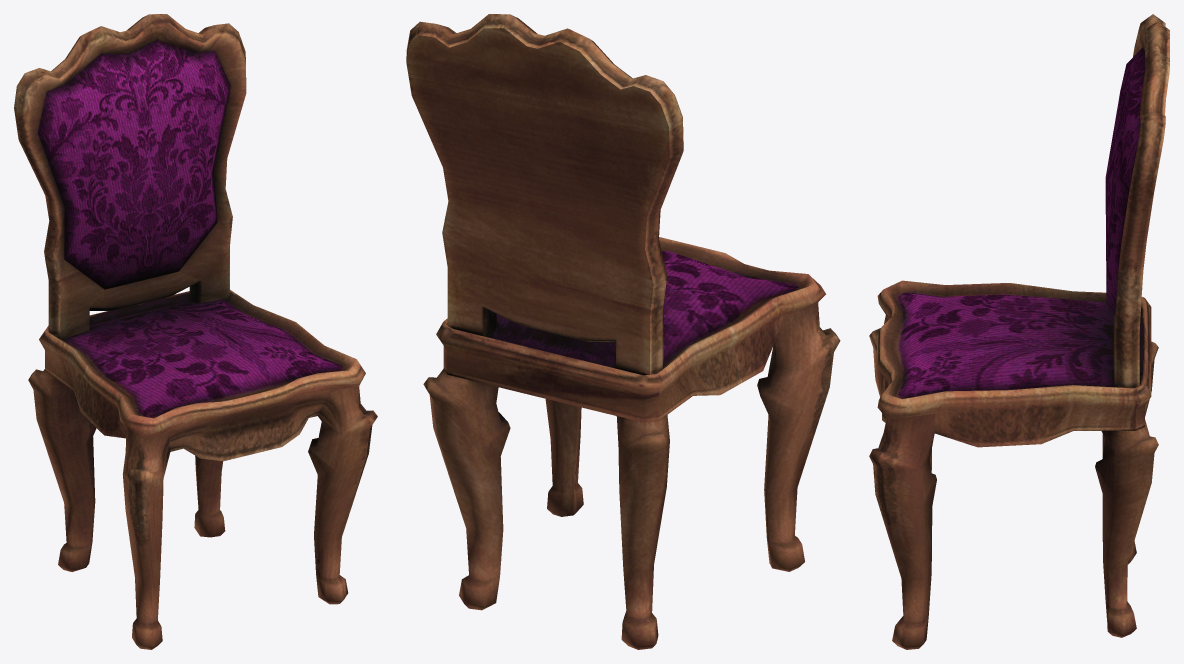
The model's file is chair_nice04.dae.
3 renders of one model, left to right at view 1: azimuth 30°, elevation 25°; view 2: azimuth 150°, elevation 25°; view 3: azimuth 270°, elevation 25°, orthographic. The views are drawn at different scales.
Visible parts, largest first — view 1: chair_nice01_Mesh; view 2: chair_nice01_Mesh; view 3: chair_nice01_Mesh.
Boxes of the visible parts, box(x1,y1,x2,y2) form: chair_nice01_Mesh: box(14, 14, 377, 649); chair_nice01_Mesh: box(406, 14, 840, 649); chair_nice01_Mesh: box(869, 14, 1169, 649).
Bounding box in the file's own units: 0.6539 × 1.31 × 0.6397.
